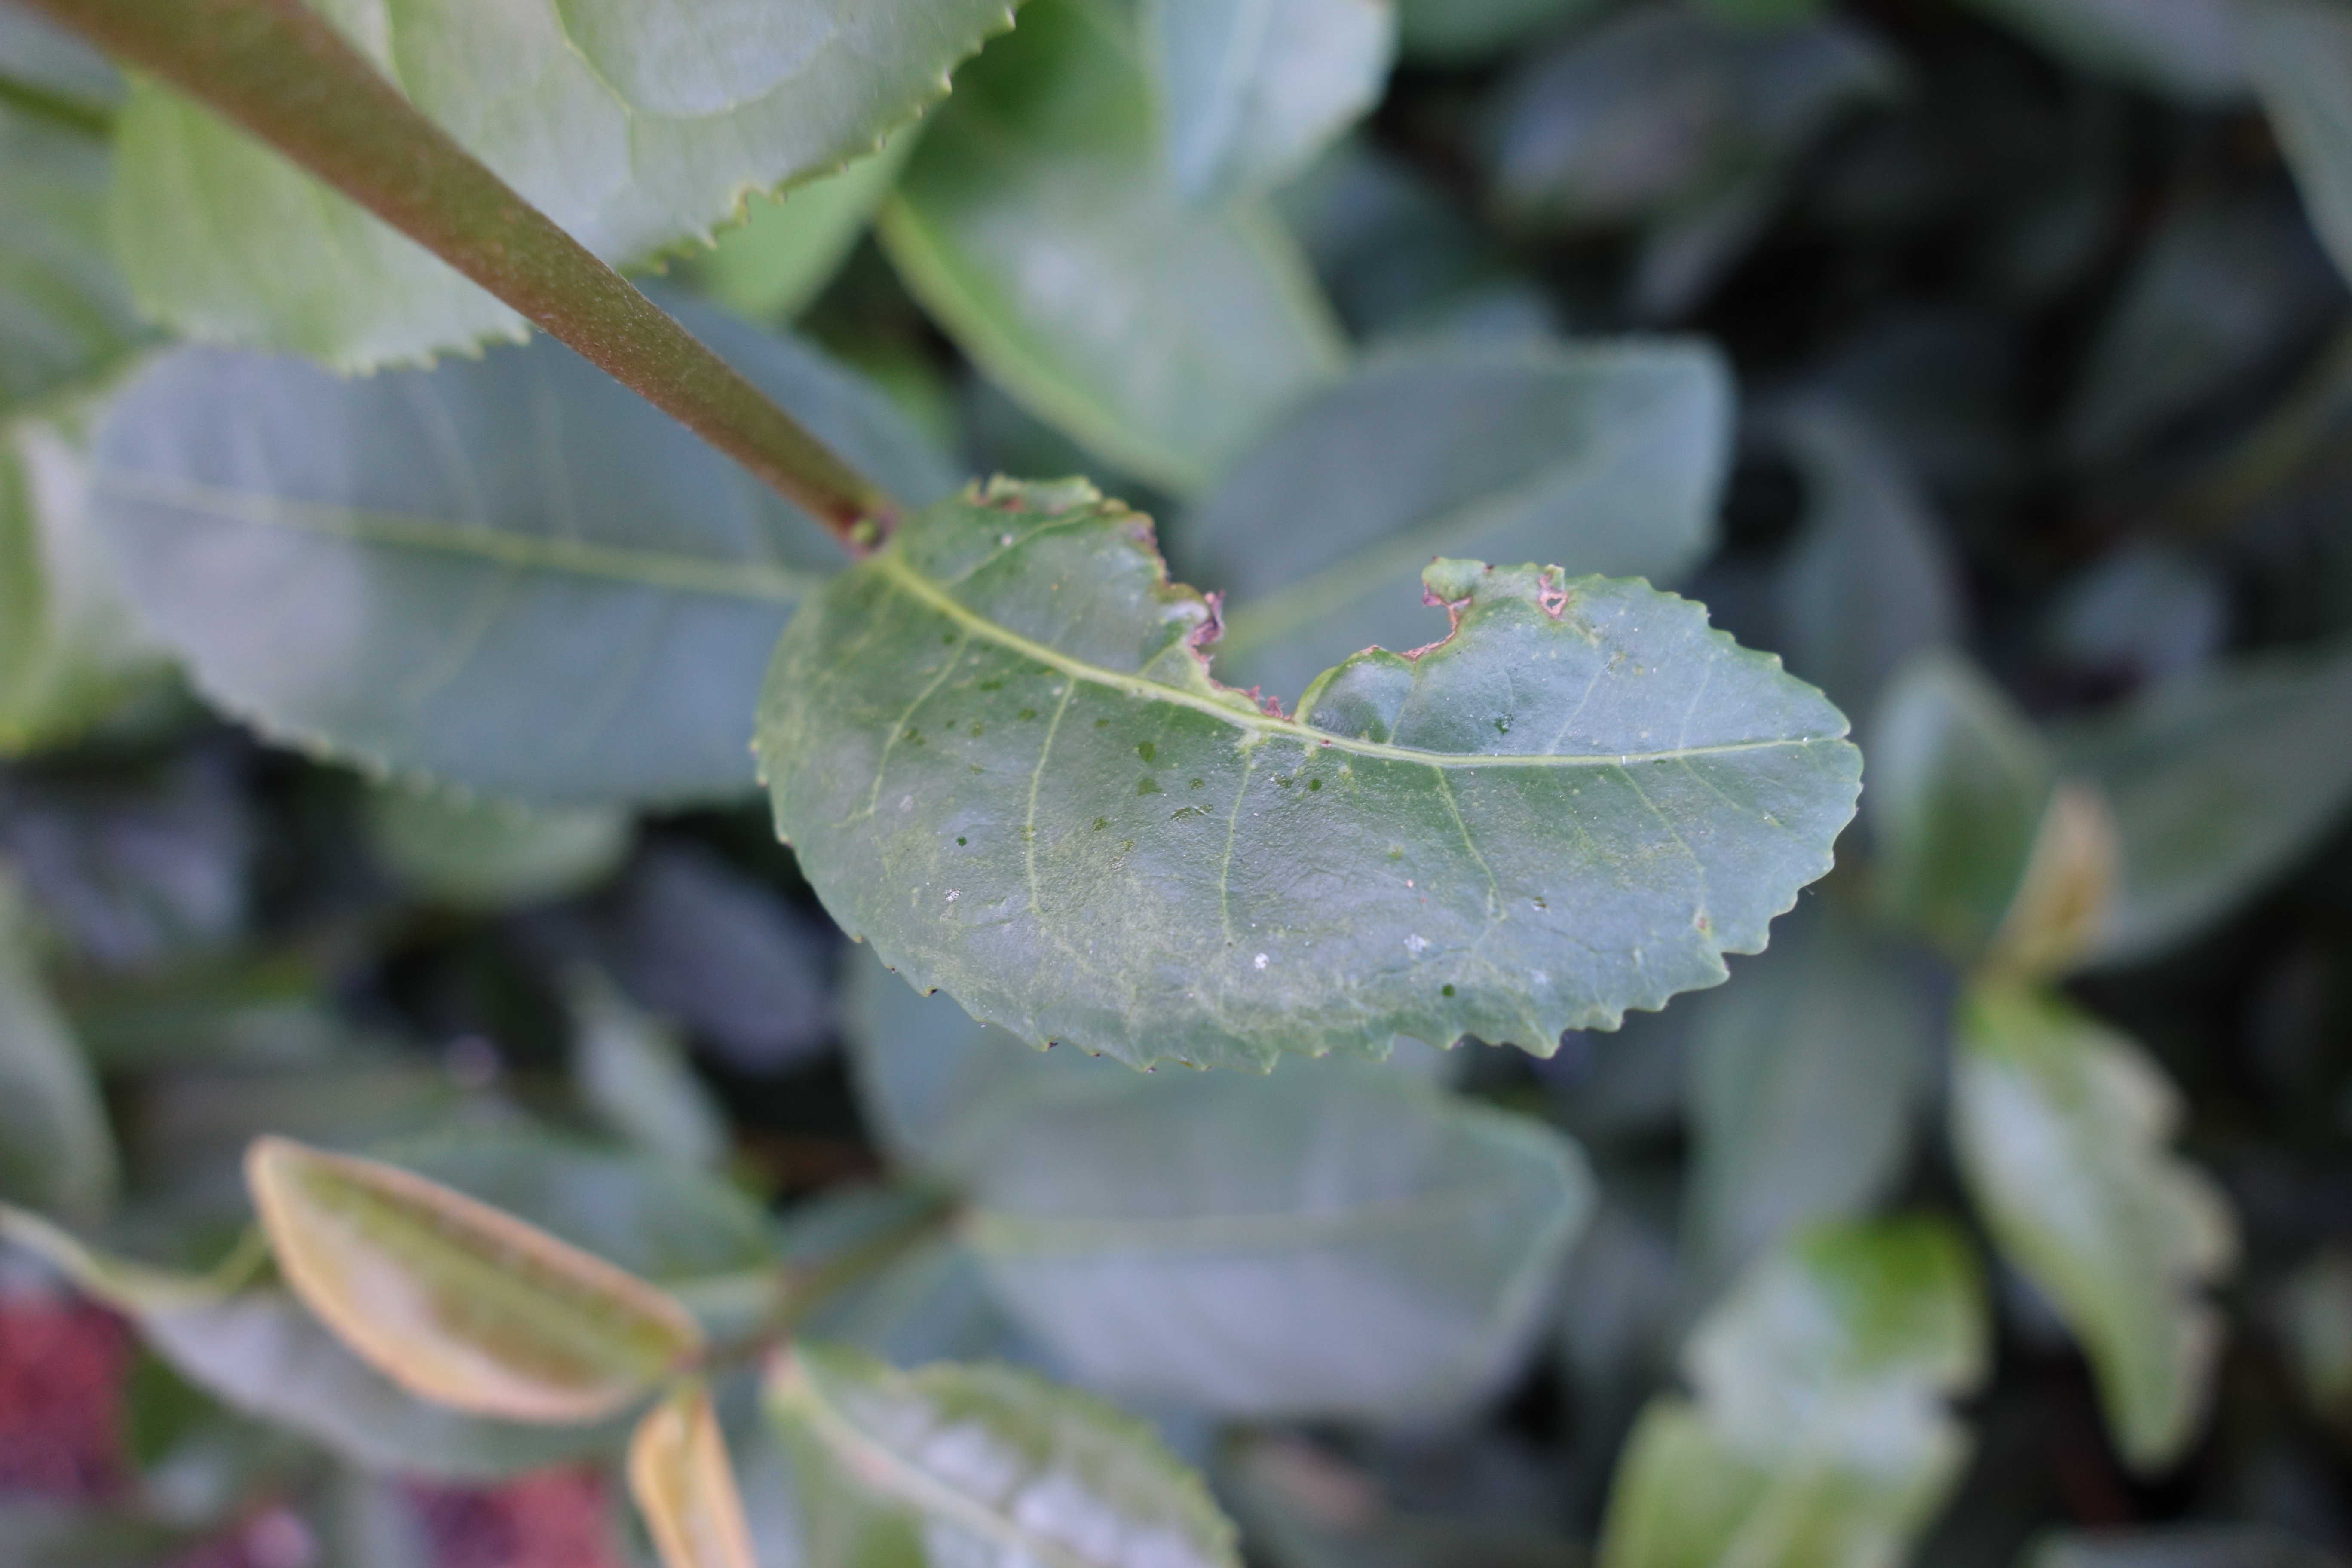chihuo_high: (756, 469, 1869, 1081)
tanju_low: (234, 1129, 709, 1428), (625, 1386, 763, 1563)
